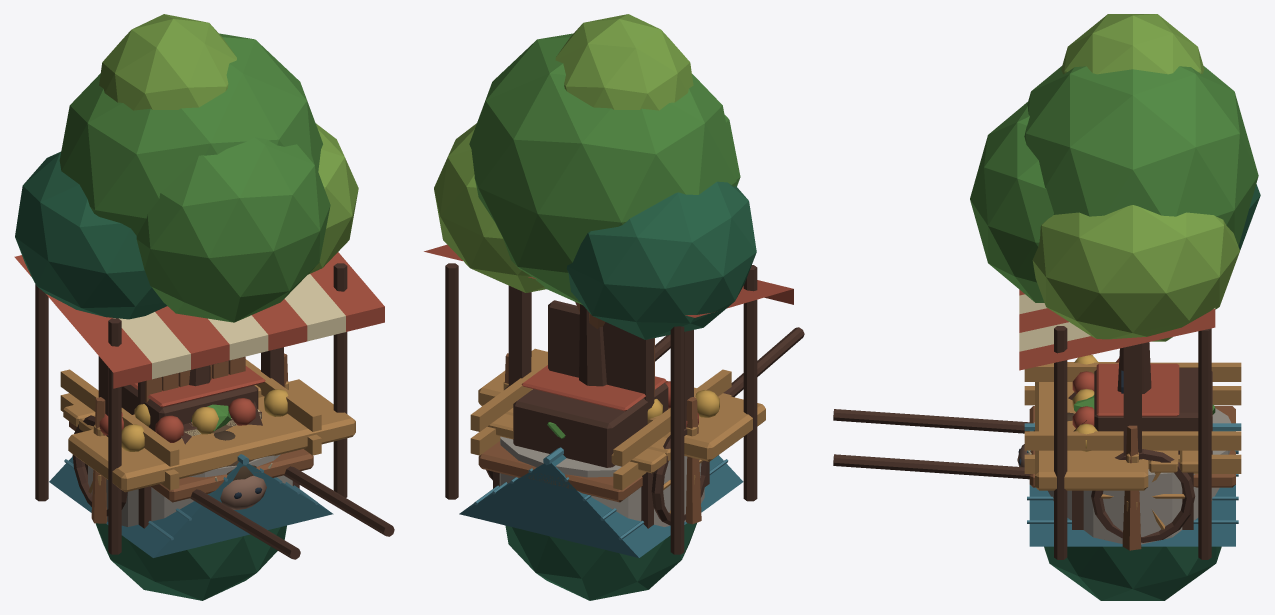
Rendered from Brackenford_Kit.glb.
3 renders of one model, left to right at view 1: azimuth 30°, elevation 25°; view 2: azimuth 150°, elevation 25°; view 3: azimuth 270°, elevation 25°, orthographic.
Parts seen in each view (by area): view 1: tree, market_red, cart, roof, hill, well, mossback, door, fence, table; view 2: tree, cart, market_red, roof, hill, well, door, table, fence; view 3: tree, cart, market_red, hill, well, roof, table, fence.
Part boxes in pixels (bbox=[...]): tree: bbox=[15, 14, 358, 386]; market_red: bbox=[14, 252, 384, 554]; cart: bbox=[60, 359, 394, 559]; roof: bbox=[49, 454, 333, 557]; hill: bbox=[95, 523, 286, 600]; well: bbox=[88, 347, 292, 526]; mossback: bbox=[181, 401, 272, 509]; door: bbox=[138, 356, 245, 404]; fence: bbox=[91, 353, 288, 523]; table: bbox=[63, 403, 299, 528]; tree: bbox=[434, 14, 756, 386]; cart: bbox=[470, 327, 804, 525]; market_red: bbox=[424, 244, 793, 554]; roof: bbox=[459, 447, 743, 557]; hill: bbox=[505, 523, 696, 600]; well: bbox=[499, 286, 704, 526]; door: bbox=[548, 300, 654, 409]; table: bbox=[487, 408, 709, 528]; fence: bbox=[503, 353, 701, 524]; tree: bbox=[970, 14, 1260, 393]; cart: bbox=[833, 362, 1241, 542]; market_red: bbox=[1019, 289, 1215, 559]; hill: bbox=[1044, 546, 1221, 600]; well: bbox=[1034, 343, 1230, 544]; roof: bbox=[1024, 423, 1241, 546]; table: bbox=[1072, 450, 1198, 529]; fence: bbox=[1122, 425, 1141, 550].
Size of the model in its own units: 3.32 by 6.12 by 4.14.
